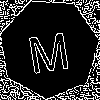M: (24, 23, 72, 74)
